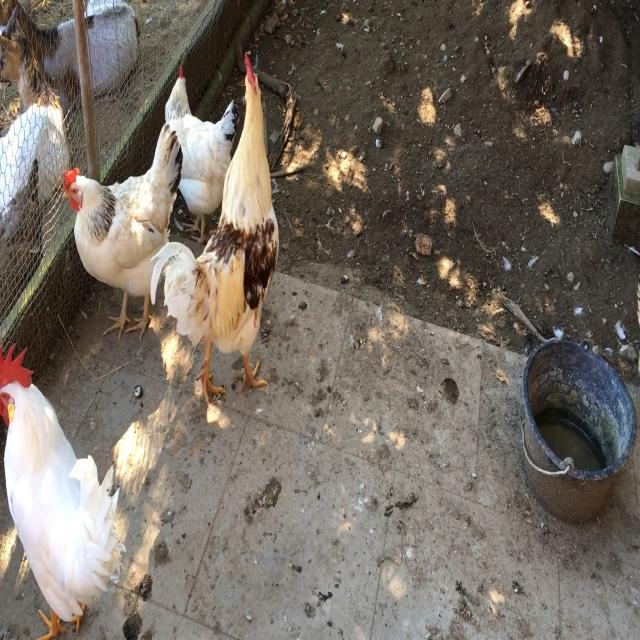chicken: (136, 61, 308, 428), (0, 339, 111, 640), (55, 145, 186, 346)
